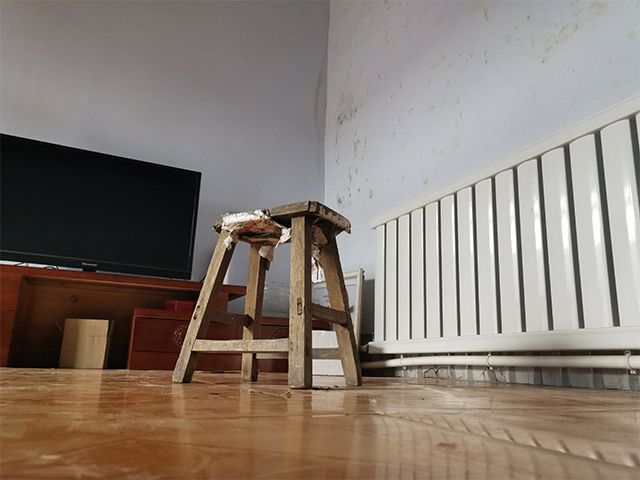cabinet: (1, 263, 330, 375)
stool: (170, 199, 365, 390)
